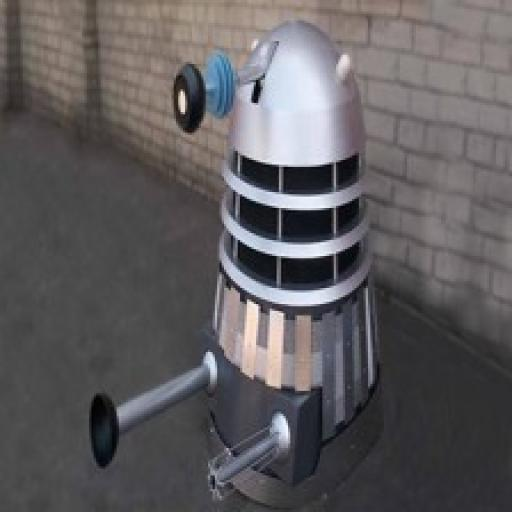dalek: (84, 20, 398, 512)
